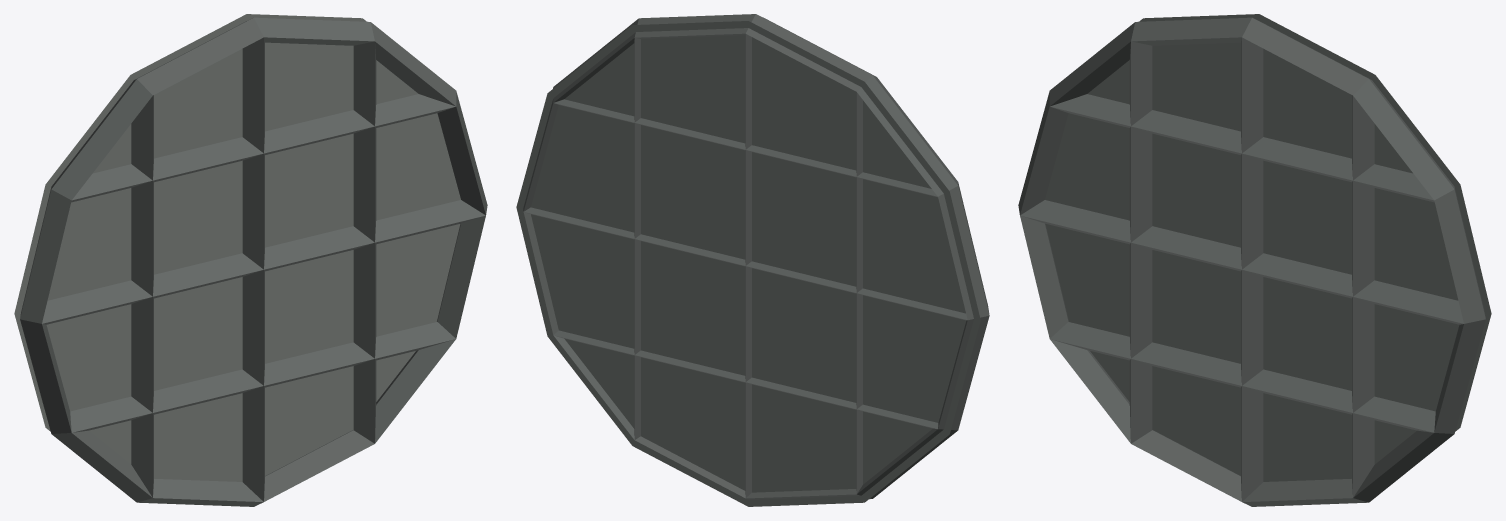
Rendered from SM_Env_Window_11.fbx.
3 renders of one model, left to right at view 1: azimuth 30°, elevation 25°; view 2: azimuth 150°, elevation 25°; view 3: azimuth 330°, elevation 25°, orthographic.
Visible parts, largest first — view 1: SM_Env_Window_11; view 2: SM_Env_Window_11; view 3: SM_Env_Window_11.
Boxes of the visible parts, x1,y1,x2,y2 form: SM_Env_Window_11: (14, 14, 487, 506); SM_Env_Window_11: (516, 14, 989, 506); SM_Env_Window_11: (1018, 14, 1491, 506).
Size of the model in its own units: 97.52 by 97.52 by 7.34.
Materials: 1 (1 with a texture image).
